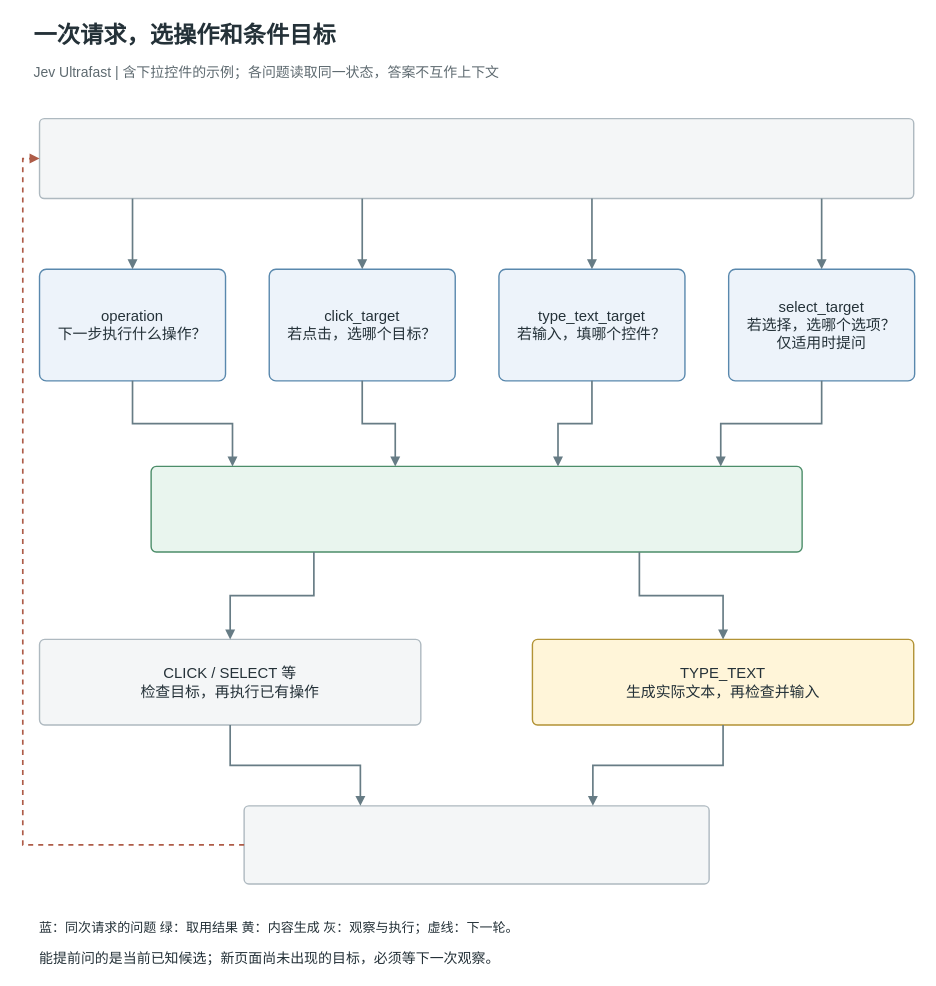
The diagram is 936 pixels wide and 986 high, and some of its shapes have lost their labels. The shapes that lost their labels are listed below. From the top down, each one's centre as x and y in pixels, then its label:
(x=476, y=158): 页面观察：带编号的控件表 + 用户目标 本次可点击、可输入、可选择的候选已知
(x=476, y=508): 程序按 operation 取用对应目标 未选中分支的答案不执行
(x=476, y=844): 执行后重新观察 选择 DONE 仍需独立结果检查
